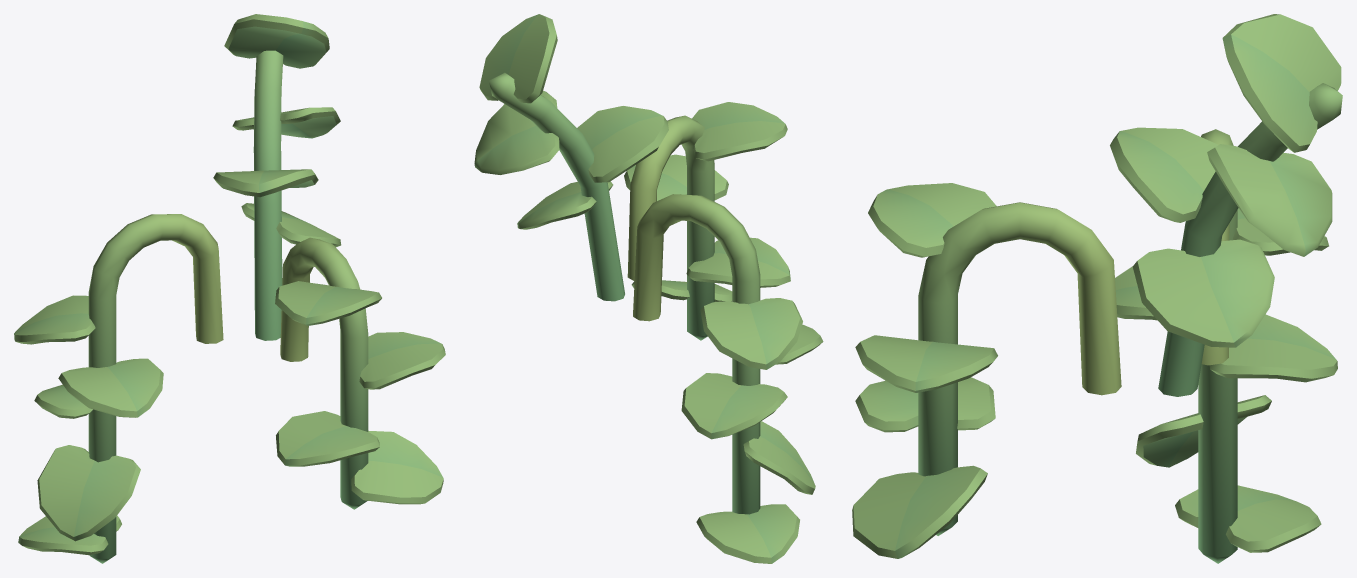
The model's file is pothos.glb.
3 renders of one model, left to right at view 1: azimuth 30°, elevation 25°; view 2: azimuth 150°, elevation 25°; view 3: azimuth 270°, elevation 25°, orthographic. The views are drawn at different scales.
Visible parts, largest first — view 1: pothos_plant_small; view 2: pothos_plant_small; view 3: pothos_plant_small.
Part boxes in pixels (left/top/right/bottom): pothos_plant_small: left=14, top=14, right=445, bottom=563; pothos_plant_small: left=474, top=14, right=823, bottom=563; pothos_plant_small: left=852, top=14, right=1342, bottom=563.
Bounding box in the file's own units: 0.6754 × 1.01 × 0.6723.
